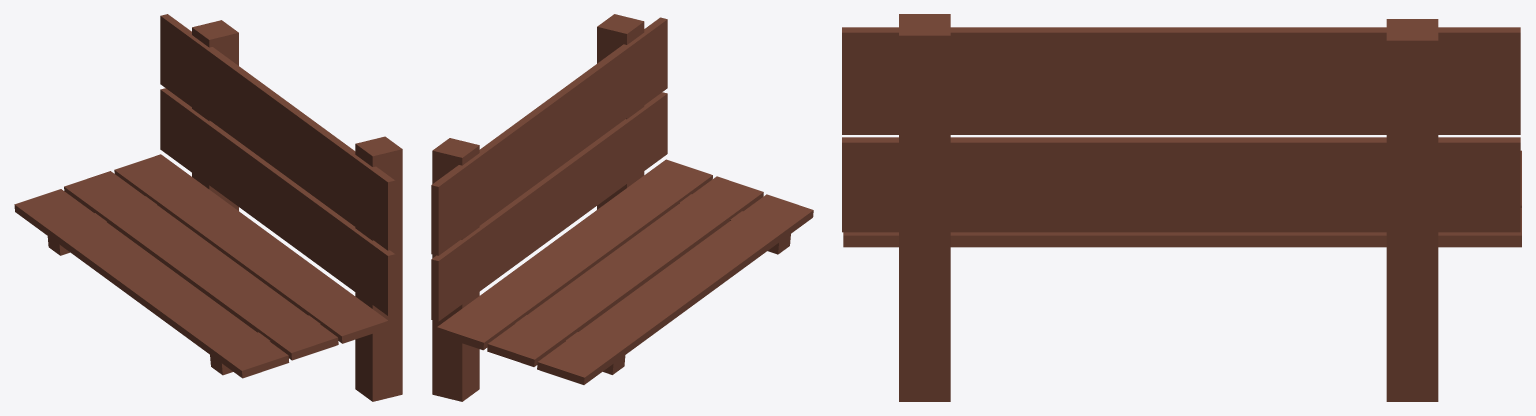
Rendered from Bench.fbx.
3 views of the same model, side by side, from view 1: azimuth 30°, elevation 25°; view 2: azimuth 150°, elevation 25°; view 3: azimuth 270°, elevation 25° (orthographic). The views are drawn at different scales.
Visible parts, largest first — view 1: Bench; view 2: Bench; view 3: Bench.
Boxes of the visible parts, x1,y1,x2,y2 form: Bench: (14, 14, 402, 401); Bench: (431, 14, 813, 401); Bench: (842, 14, 1521, 401).
Size of the model in its own units: 402 by 527 by 886.
